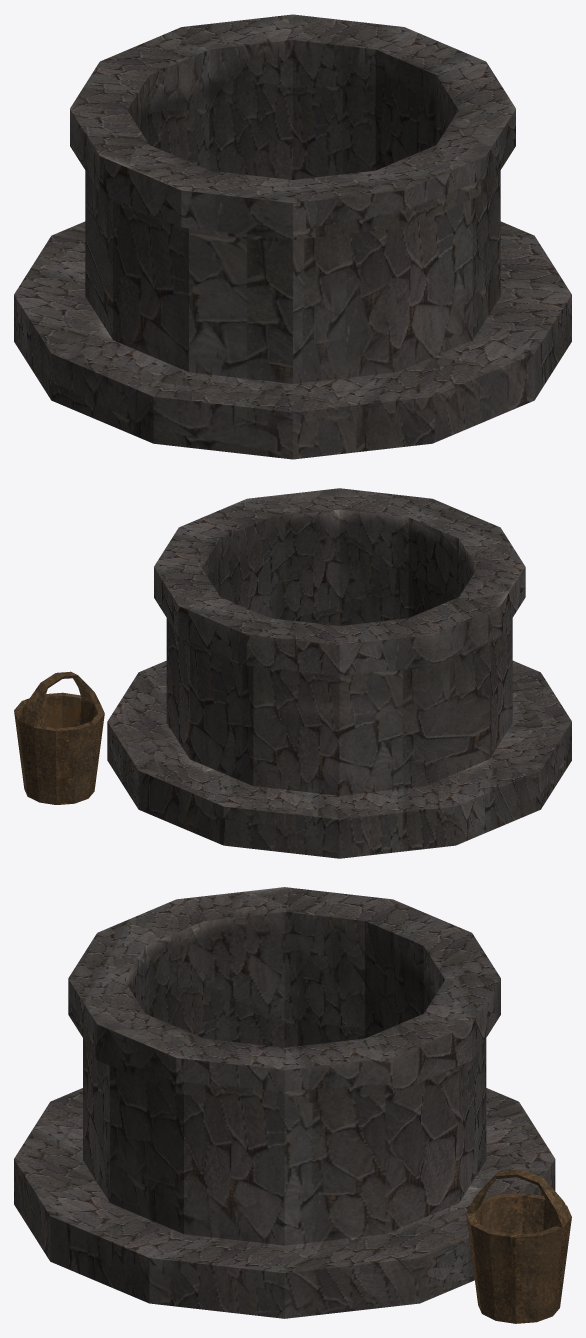
Rendered from Well.glb.
3 renders of one model, top to bottom at view 1: azimuth 30°, elevation 25°; view 2: azimuth 150°, elevation 25°; view 3: azimuth 270°, elevation 25°, orthographic. The views are drawn at different scales.
Visible parts, largest first — view 1: Well; view 2: Well; view 3: Well.
Part boxes in pixels (x1,y1,x2,y2): Well: (14,14,571,459); Well: (14,488,571,858); Well: (14,887,571,1323).
Size of the model in its own units: 1.87 by 0.8243 by 1.85.
Materials: 1 (1 with a texture image).
